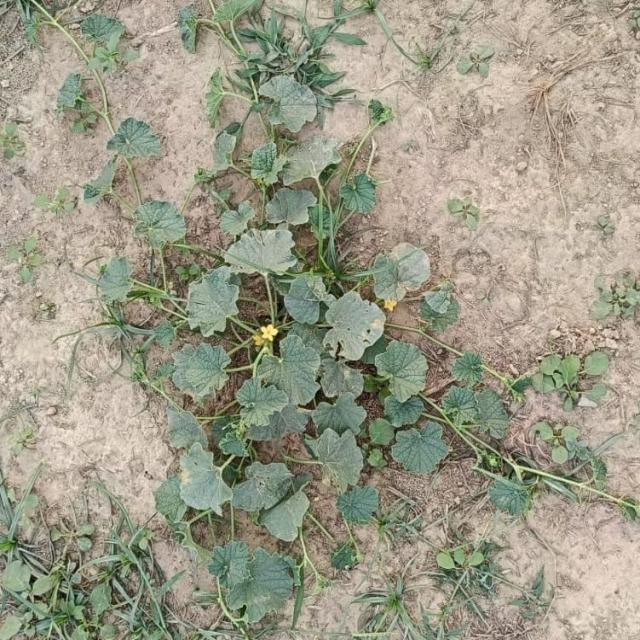plant: (82, 0, 640, 623), (438, 547, 487, 573)
